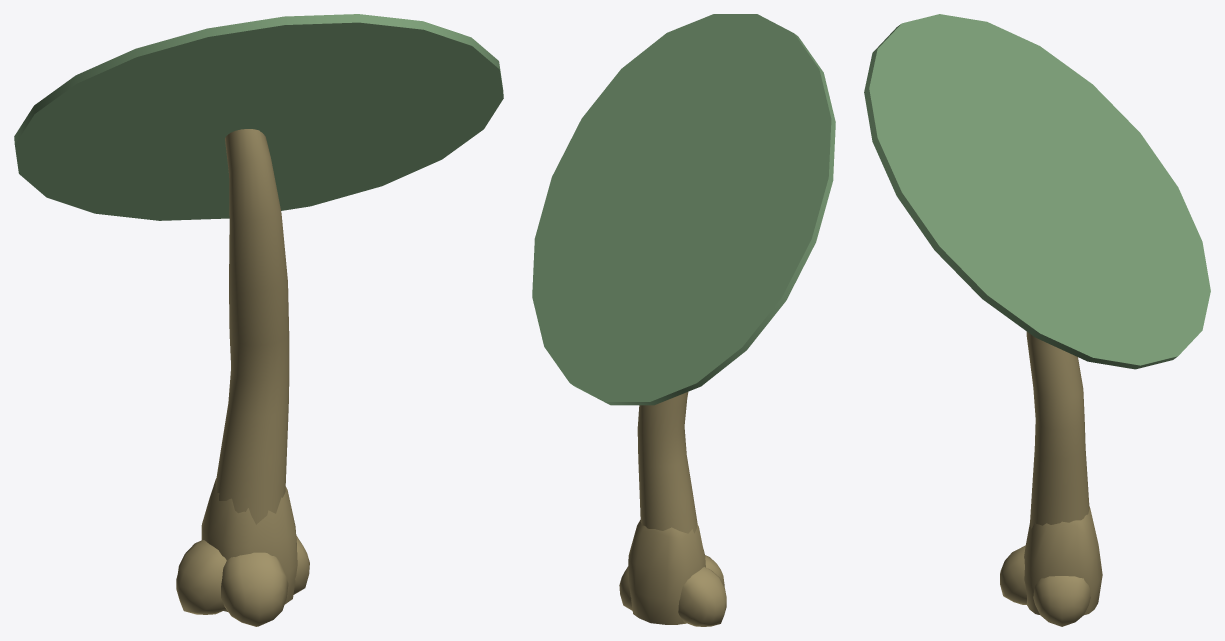
Rendered from DiscBoom.fbx.
3 views of the same model, side by side, from view 1: azimuth 30°, elevation 25°; view 2: azimuth 150°, elevation 25°; view 3: azimuth 270°, elevation 25° (orthographic). The views are drawn at different scales.
Parts seen in each view (by area): view 1: pCube16; view 2: pCube16; view 3: pCube16.
Boxes of the visible parts, x1=… form: pCube16: x1=14, y1=14, x2=503, y2=626; pCube16: x1=532, y1=14, x2=835, y2=626; pCube16: x1=864, y1=14, x2=1210, y2=626.
Size of the model in its own units: 0.0733 by 0.1211 by 0.0676.
